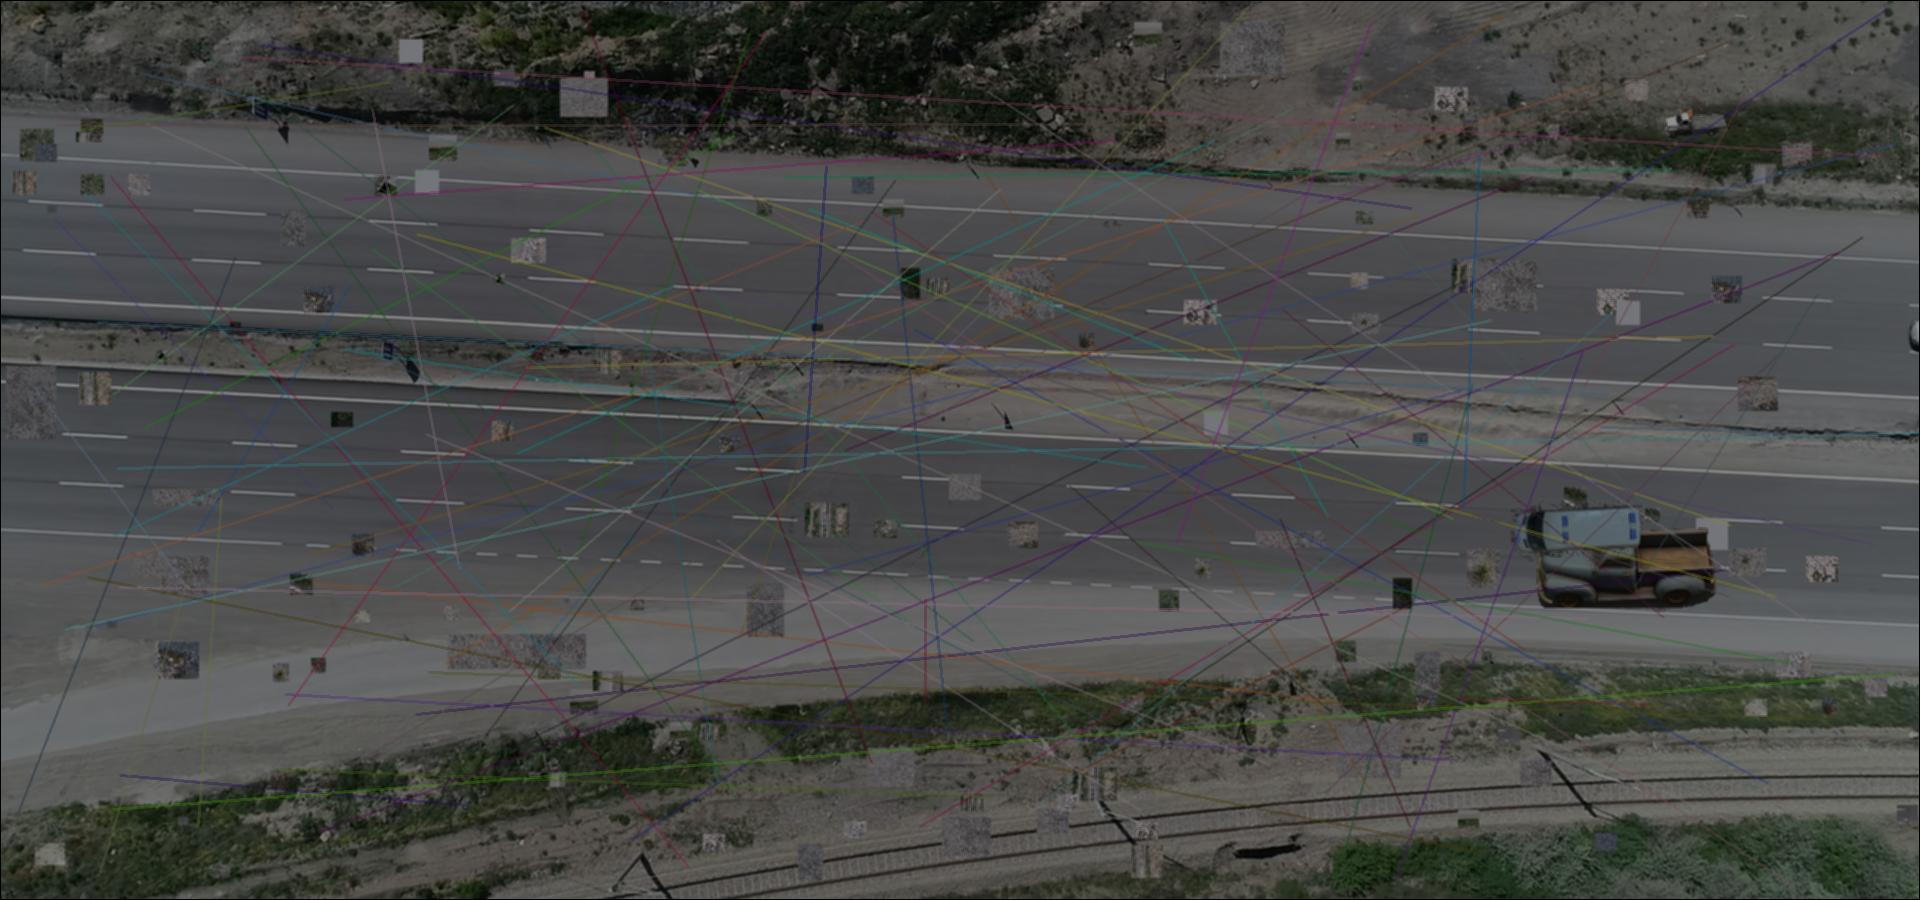arac: (1536, 518, 1716, 609), (1511, 501, 1643, 557), (1664, 108, 1727, 140)
